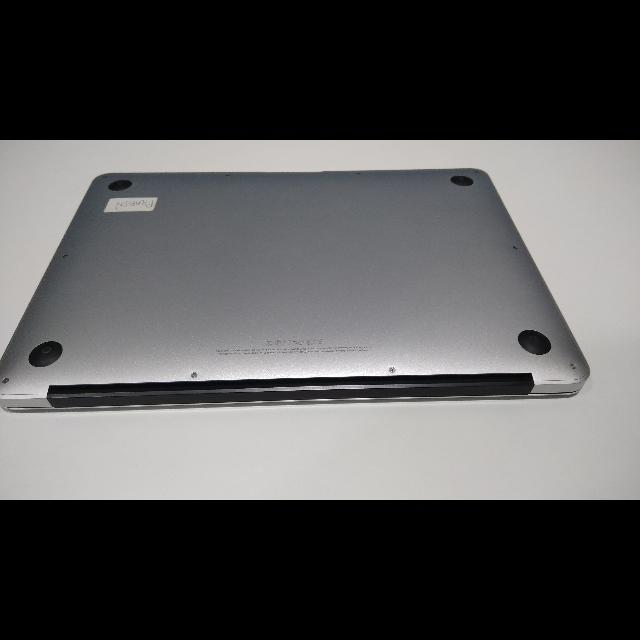Laptop: (1, 166, 597, 420)
